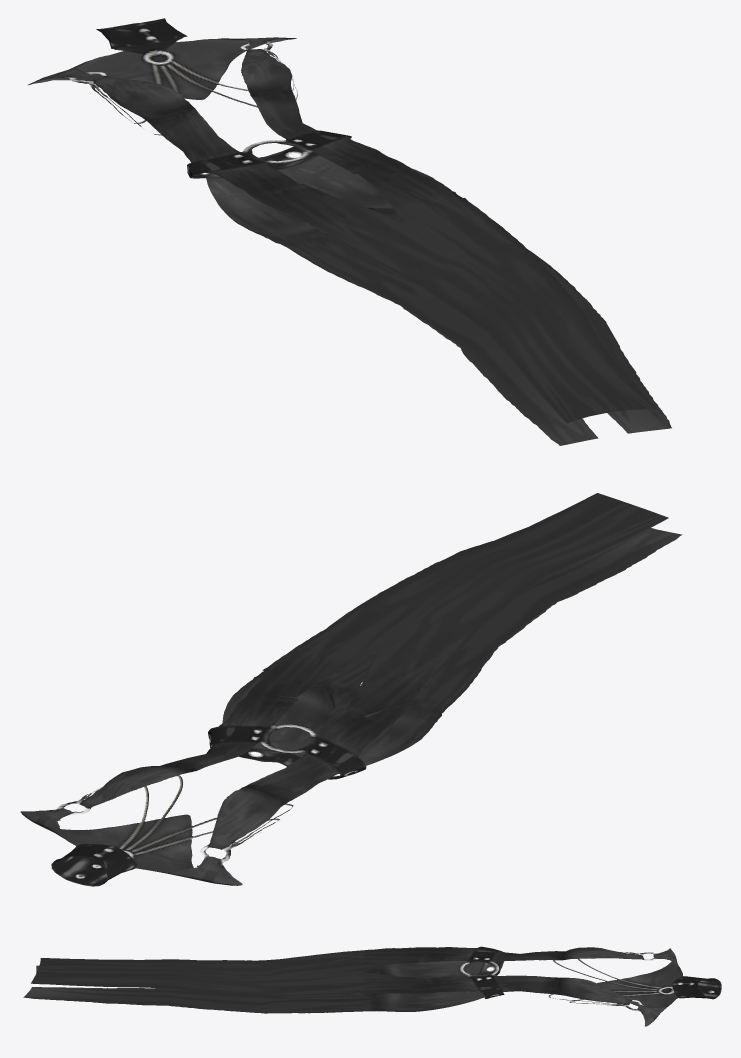
File: Goth_Dress_Ground.fbx
3 renders of one model, top to bottom at view 1: azimuth 30°, elevation 25°; view 2: azimuth 150°, elevation 25°; view 3: azimuth 270°, elevation 25°, orthographic. The views are drawn at different scales.
Parts seen in each view (by area): view 1: G_Dress; view 2: G_Dress; view 3: G_Dress.
Part boxes in pixels (x1=…): G_Dress: x1=28, y1=18, x2=671, y2=445; G_Dress: x1=20, y1=493, x2=682, y2=886; G_Dress: x1=23, y1=946, x2=721, y2=1026.
Size of the model in its own units: 0.3468 by 0.0274 by 0.8186.
